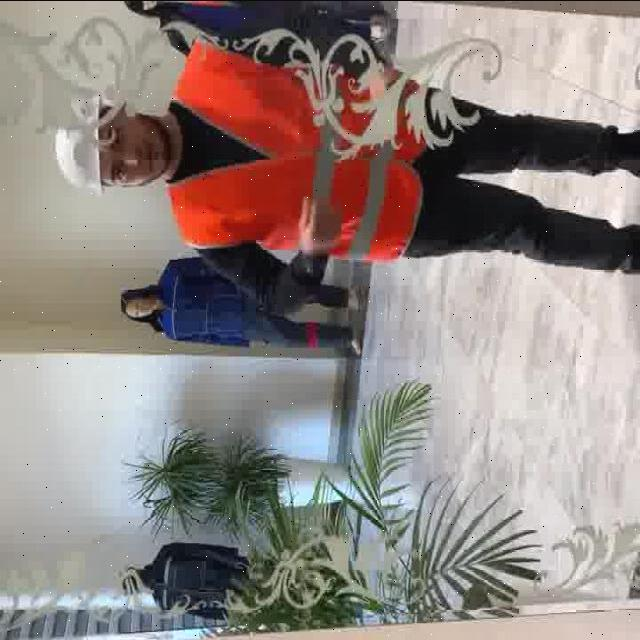Helmet: (54, 90, 102, 194)
Vest: (163, 29, 424, 264)
